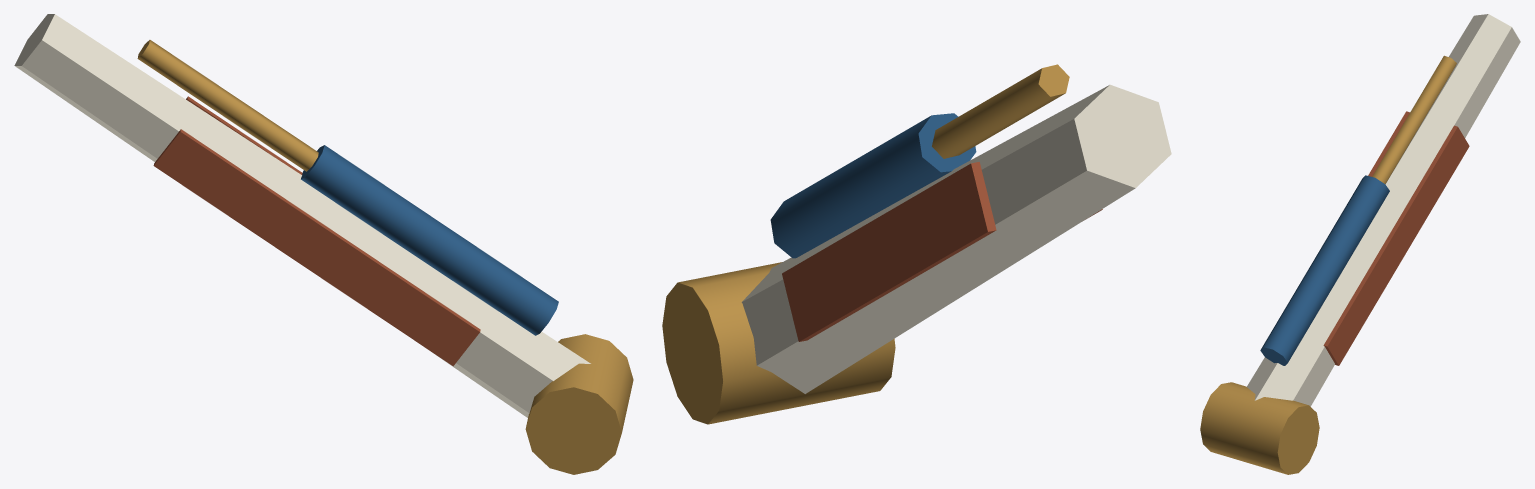
File: rm2_leg_rr_femur.obj
3 renders of one model, left to right at view 1: azimuth 30°, elevation 25°; view 2: azimuth 150°, elevation 25°; view 3: azimuth 270°, elevation 25°, orthographic. The views are drawn at different scales.
Visible parts, largest first — view 1: rm2_leg_rr_femur; view 2: rm2_leg_rr_femur; view 3: rm2_leg_rr_femur.
Boxes of the visible parts, x1,y1,x2,y2 form: rm2_leg_rr_femur: [14, 14, 633, 474]; rm2_leg_rr_femur: [662, 64, 1171, 424]; rm2_leg_rr_femur: [1200, 14, 1520, 474].
Size of the model in its own units: 0.5217 by 0.434 by 0.4054.
